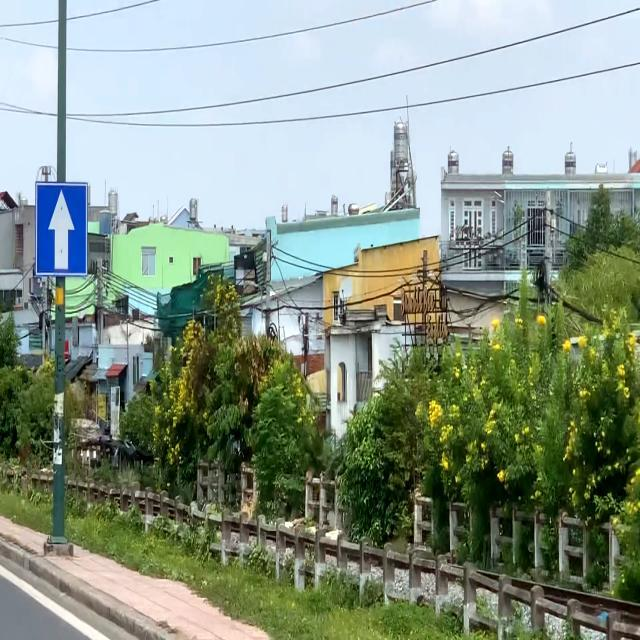R-407a: (34, 177, 88, 284)
